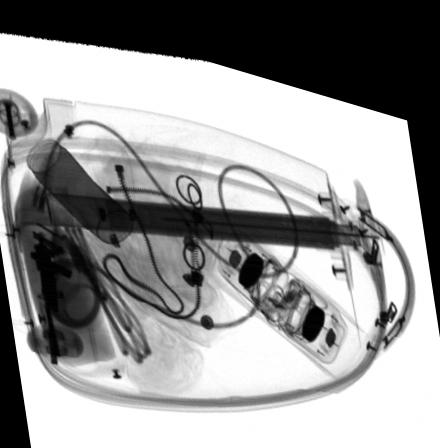Gun: (30, 227, 73, 362)
